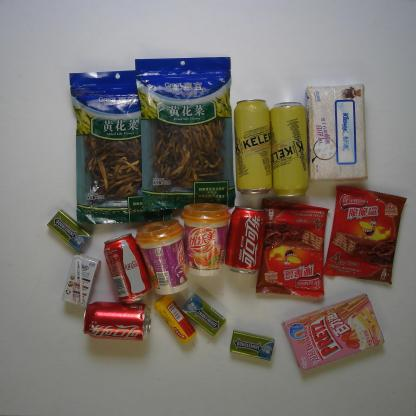Alcohol: (232, 97, 274, 196), (269, 100, 310, 198)
Candy: (155, 295, 197, 343)
Dessert: (324, 184, 410, 286), (253, 196, 330, 301), (280, 294, 385, 371)
Dried Food: (69, 67, 175, 226), (132, 55, 238, 214)
Drink: (102, 234, 152, 305), (224, 205, 269, 276), (82, 300, 152, 342)
Gum: (182, 293, 226, 337), (47, 209, 90, 250), (229, 330, 275, 361)
Instant Drink: (137, 219, 188, 296), (181, 200, 231, 276)
Milk: (61, 254, 100, 308)
Tissue: (304, 81, 370, 185)
